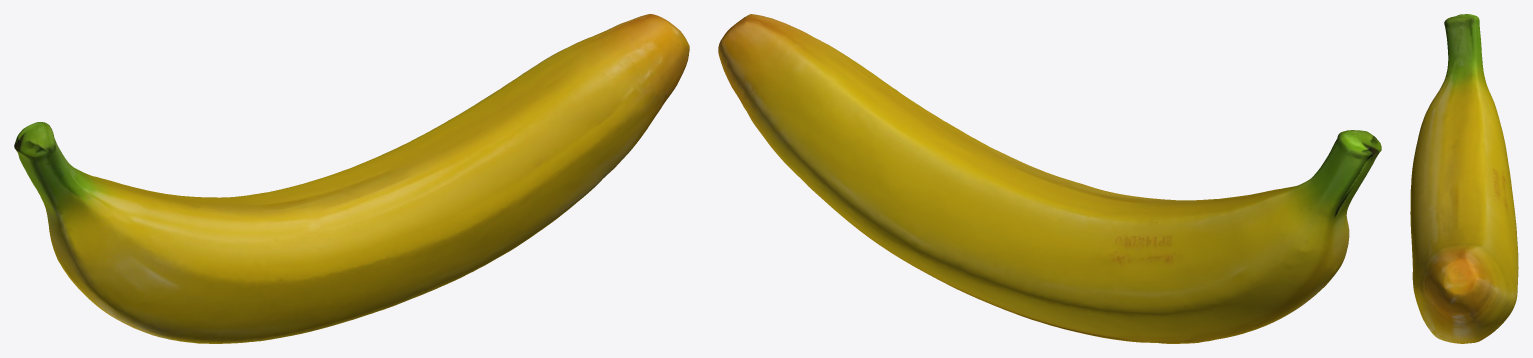
The model's file is banana.glb.
3 views of the same model, side by side, from view 1: azimuth 30°, elevation 25°; view 2: azimuth 150°, elevation 25°; view 3: azimuth 270°, elevation 25° (orthographic). The views are drawn at different scales.
Parts seen in each view (by area): view 1: banana; view 2: banana; view 3: banana.
Boxes of the visible parts, <box> form: banana: <box>14,14,689,343</box>; banana: <box>718,14,1381,343</box>; banana: <box>1410,14,1518,343</box>.
Size of the model in its own units: 0.1972 by 0.074 by 0.038.
Materials: 1 (1 with a texture image).
